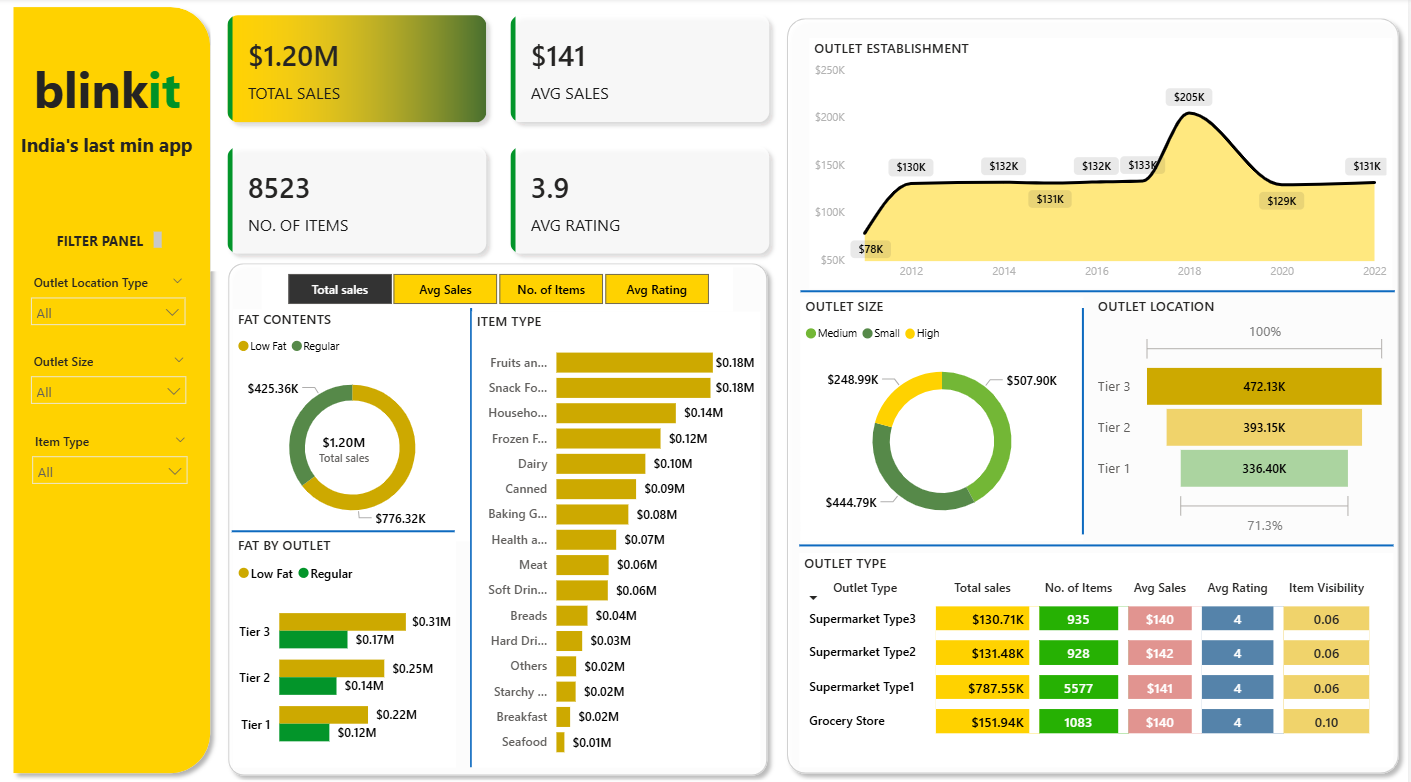

The dashboard page shown, as its layout file describes it:
{"tool":"powerbi","page":{"name":"Page 1","canvas":[1400,800],"ordinal":0},"visuals":[{"type":"shape","box":[10.7,0,213.1,776.1],"z":0},{"type":"textbox","box":[28.2,52.3,168.9,75.1],"z":1000},{"type":"textbox","box":[9.4,127.3,205.1,37.5],"z":2000},{"type":"cardVisual","fields":{"Data":["BlinkIT Grocery Data.Total sales","BlinkIT Grocery Data.Avg Sales","BlinkIT Grocery Data.No. of Items","BlinkIT Grocery Data.Avg Rating"]},"box":[215,0,570,270],"z":3000},{"type":"shape","box":[223.5,252.9,551.5,525],"z":4000},{"type":"donutChart","title":"FAT CONTENTS","fields":{"Y":["BlinkIT Grocery Data.Total sales"],"Category":["BlinkIT Grocery Data.Item Fat Content"]},"box":[237.3,308,236,229.3],"z":5000},{"type":"slicer","fields":{"Values":["Metrics.Metrics"]},"box":[266.2,266.2,466.2,44.1],"z":6000},{"type":"cardVisual","fields":{"Data":["BlinkIT Grocery Data.Total sales"]},"box":[301.5,413.2,91.2,63.2],"z":7000},{"type":"clusteredBarChart","title":"FAT BY OUTLET","fields":{"Y":["BlinkIT Grocery Data.Total sales"],"Category":["BlinkIT Grocery Data.Outlet Location Type"],"Series":["BlinkIT Grocery Data.Item Fat Content"]},"box":[237.3,532.2,221.2,229.2],"z":8000},{"type":"shape","box":[236.8,502.9,220.6,48.5],"z":9000},{"type":"shape","box":[457.4,307.4,30.9,454.4],"z":10000},{"type":"barChart","title":"ITEM TYPE","fields":{"Y":["BlinkIT Grocery Data.Total sales"],"Category":["BlinkIT Grocery Data.Item Type"]},"box":[473.5,310.3,285.3,451.5],"z":11000},{"type":"shape","box":[776.1,10.7,623.3,765.4],"z":12000},{"type":"lineChart","title":"OUTLET ESTABLISHMENT","fields":{"Y":["BlinkIT Grocery Data.Total sales"],"Category":["BlinkIT Grocery Data.Outlet Establishment Year"]},"box":[807.4,39.7,576.5,248],"z":13000},{"type":"shape","box":[798.5,266.2,588.2,48.5],"z":14000},{"type":"donutChart","title":"OUTLET SIZE","fields":{"Y":["BlinkIT Grocery Data.Total sales"],"Category":["BlinkIT Grocery Data.Outlet Size"]},"box":[798.7,296,280,241.3],"z":15000},{"type":"slicer","title":"OUTLET LOCATION","fields":{"Values":["BlinkIT Grocery Data.Outlet Location Type"]},"box":[26.8,268.1,172.9,63],"z":16000},{"type":"shape","box":[797.3,517.3,588,49.3],"z":17000},{"type":"shape","box":[1063,307,32.2,223.9],"z":18000},{"type":"pivotTable","title":"OUTLET TYPE","fields":{"Rows":["BlinkIT Grocery Data.Outlet Type"],"Values":["BlinkIT Grocery Data.Total sales","BlinkIT Grocery Data.No. of Items","BlinkIT Grocery Data.Avg Sales","BlinkIT Grocery Data.Avg Rating","Avg(BlinkIT Grocery Data.Item Visibility)"]},"box":[797.3,549.3,588,212],"z":19000},{"type":"funnel","title":"OUTLET LOCATION","fields":{"Y":["Sum(BlinkIT Grocery Data.Sales)"],"Category":["BlinkIT Grocery Data.Outlet Location Type"]},"box":[1088,296,296,241.3],"z":20000},{"type":"slicer","title":"OUTLET LOCATION","fields":{"Values":["BlinkIT Grocery Data.Outlet Size"]},"box":[26.8,345.8,174.3,63],"z":21000},{"type":"slicer","title":"OUTLET LOCATION","fields":{"Values":["BlinkIT Grocery Data.Item Type"]},"box":[28.2,424.9,174.3,63],"z":22000},{"type":"textbox","box":[57.6,226.5,113.9,26.8],"z":23000}]}

Visuals, with their boxes on the page's 1400x800 design canvas (x1, y1, x2, y2). These are canvas units, not pixel positions in the 1411x782 screenshot, which may show the page scaled, cropped or inside an application window:
shape: 11:0:224:776
textbox: 28:52:197:127
textbox: 9:127:214:165
cardVisual - BlinkIT Grocery Data.Total sales x BlinkIT Grocery Data.Avg Sales: 215:0:785:270
shape: 224:253:775:778
"FAT CONTENTS" donutChart: 237:308:473:537
slicer - Metrics.Metrics: 266:266:732:310
cardVisual - BlinkIT Grocery Data.Total sales: 302:413:393:476
"FAT BY OUTLET" clusteredBarChart: 237:532:458:761
shape: 237:503:457:551
shape: 457:307:488:762
"ITEM TYPE" barChart: 474:310:759:762
shape: 776:11:1399:776
"OUTLET ESTABLISHMENT" lineChart: 807:40:1384:288
shape: 798:266:1387:315
"OUTLET SIZE" donutChart: 799:296:1079:537
"OUTLET LOCATION" slicer: 27:268:200:331
shape: 797:517:1385:567
shape: 1063:307:1095:531
"OUTLET TYPE" pivotTable: 797:549:1385:761
"OUTLET LOCATION" funnel: 1088:296:1384:537
"OUTLET LOCATION" slicer: 27:346:201:409
"OUTLET LOCATION" slicer: 28:425:202:488
textbox: 58:226:172:253
